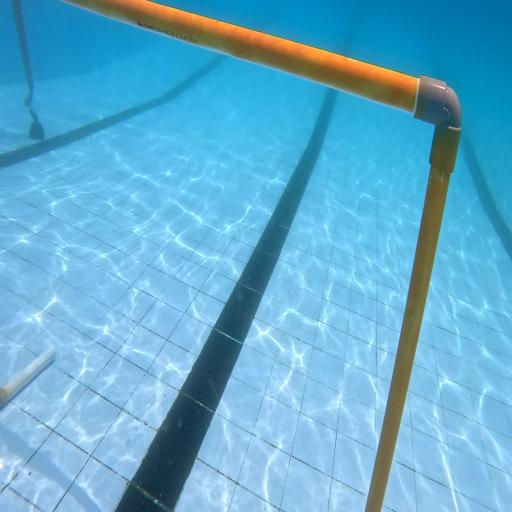gate: (62, 0, 461, 512)
